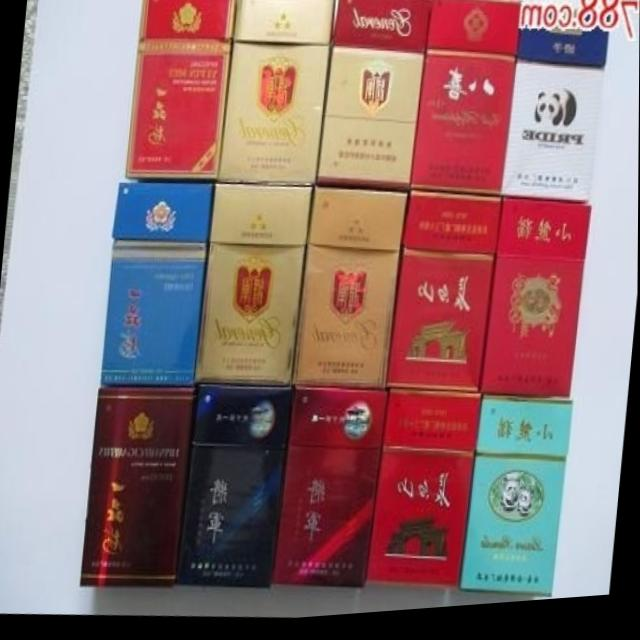box: (270, 390, 389, 594), (385, 196, 502, 403), (174, 387, 292, 592), (195, 187, 314, 390), (291, 190, 409, 394), (365, 394, 483, 597), (459, 401, 574, 605), (80, 388, 196, 589), (100, 184, 213, 389), (409, 0, 522, 203), (317, 0, 433, 196), (480, 206, 592, 407), (219, 0, 336, 192), (125, 0, 236, 183), (501, 34, 609, 211)
